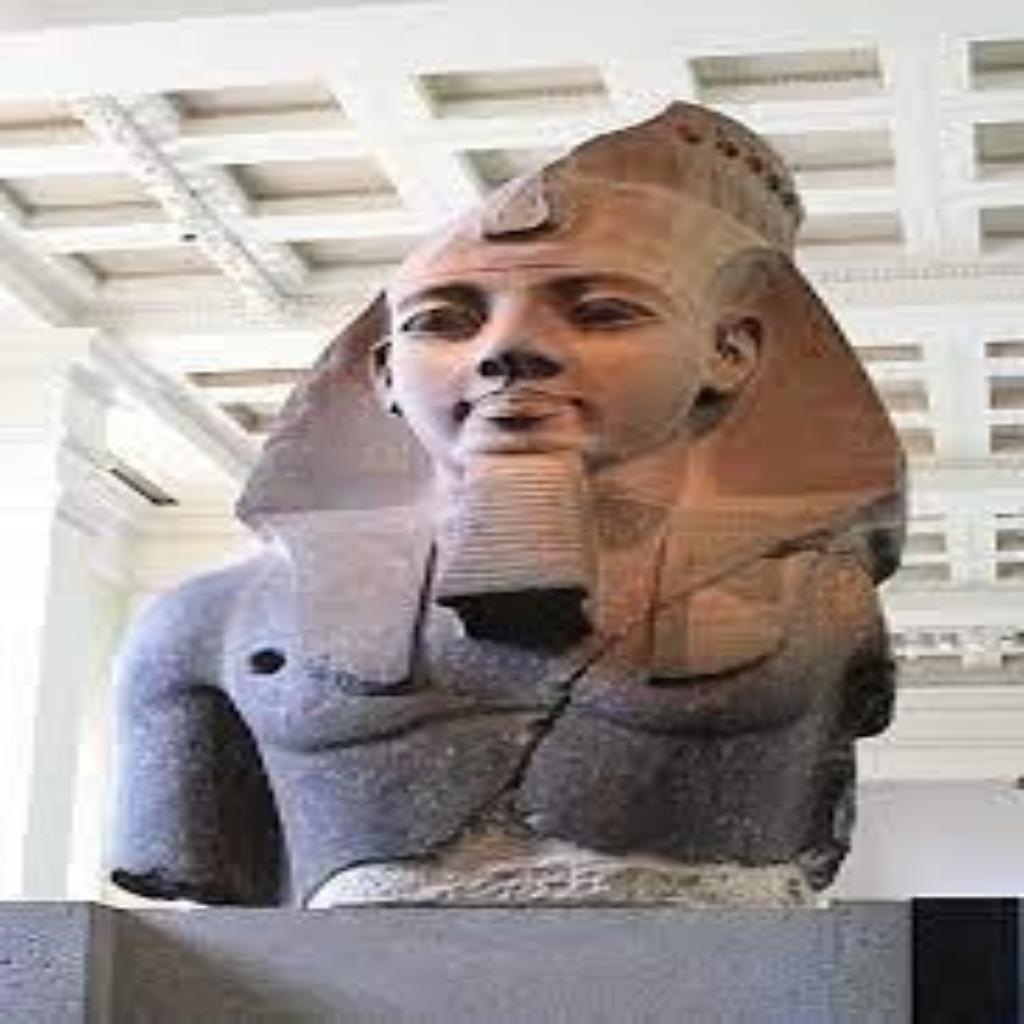bust of Ramesses II: (95, 96, 912, 908)
